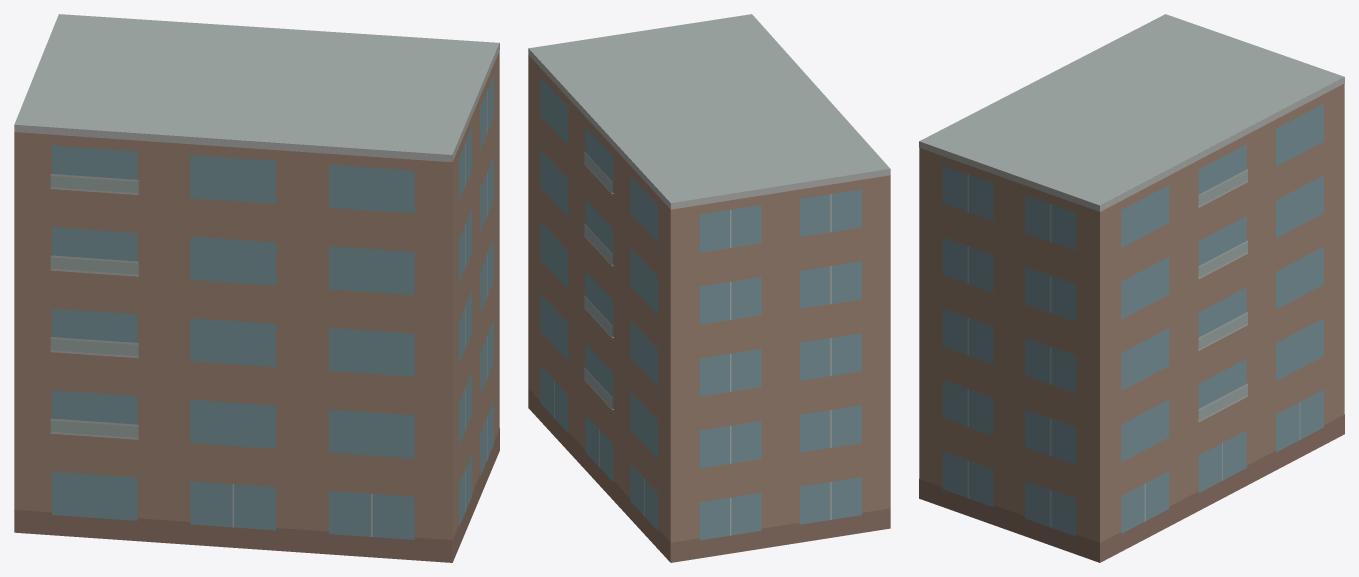
The model's file is survey-upis-32926027.glb.
3 views of the same model, side by side, from view 1: azimuth 30°, elevation 25°; view 2: azimuth 150°, elevation 25°; view 3: azimuth 270°, elevation 25° (orthographic). The views are drawn at different scales.
Visible parts, largest first — view 1: survey-upis-32926027.tmp; view 2: survey-upis-32926027.tmp; view 3: survey-upis-32926027.tmp.
Boxes of the visible parts, bbox=[...] form: survey-upis-32926027.tmp: bbox=[14, 14, 499, 562]; survey-upis-32926027.tmp: bbox=[528, 14, 890, 562]; survey-upis-32926027.tmp: bbox=[919, 14, 1344, 562].
Bounding box in the file's own units: 15.67 × 13.62 × 14.71.
